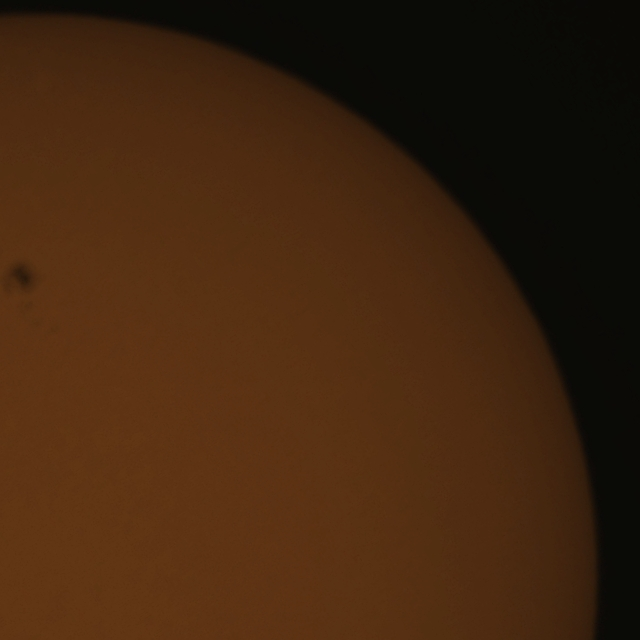sunspot: (11, 262, 47, 310)
